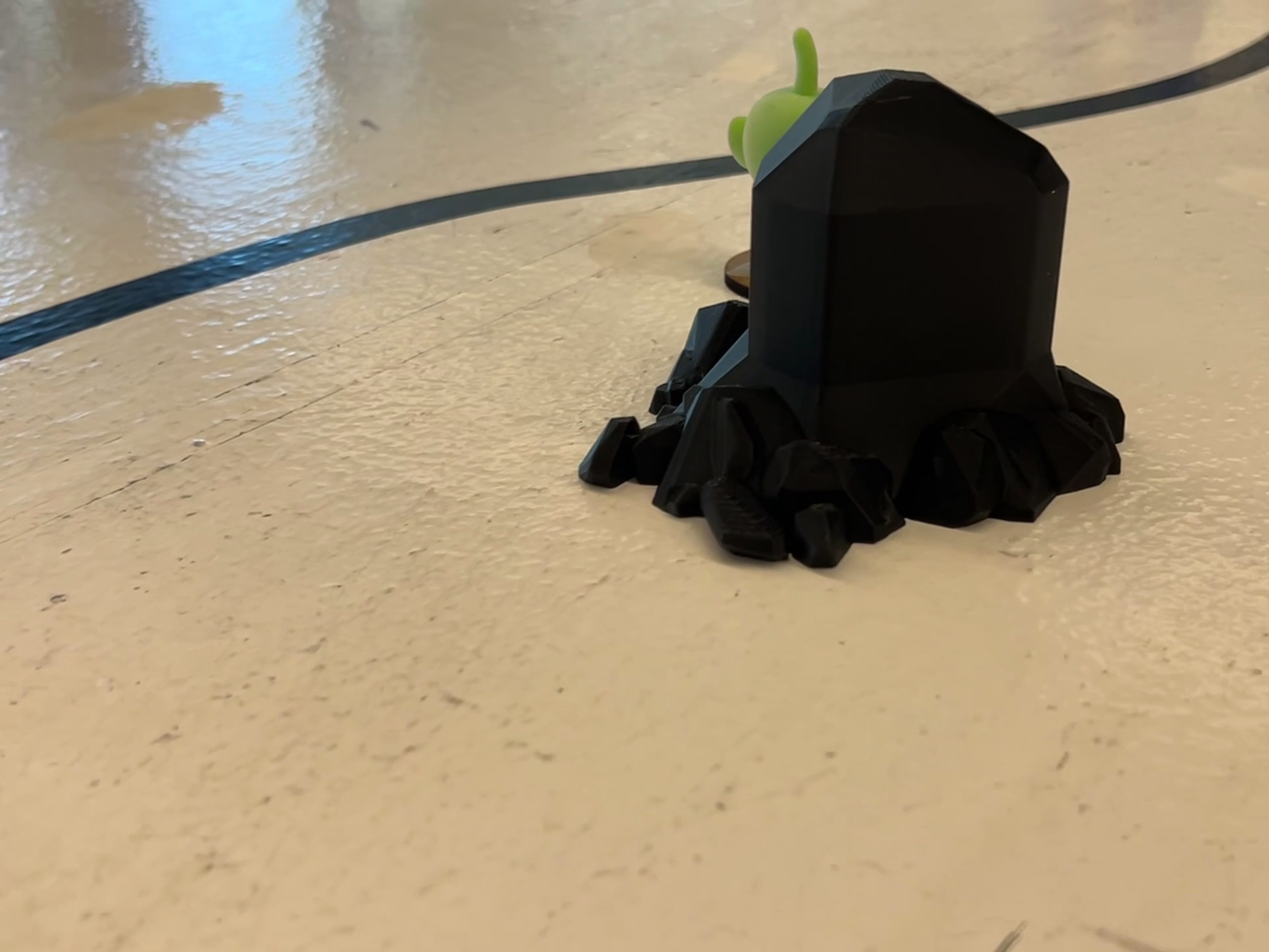teletubby: (728, 28, 820, 176)
